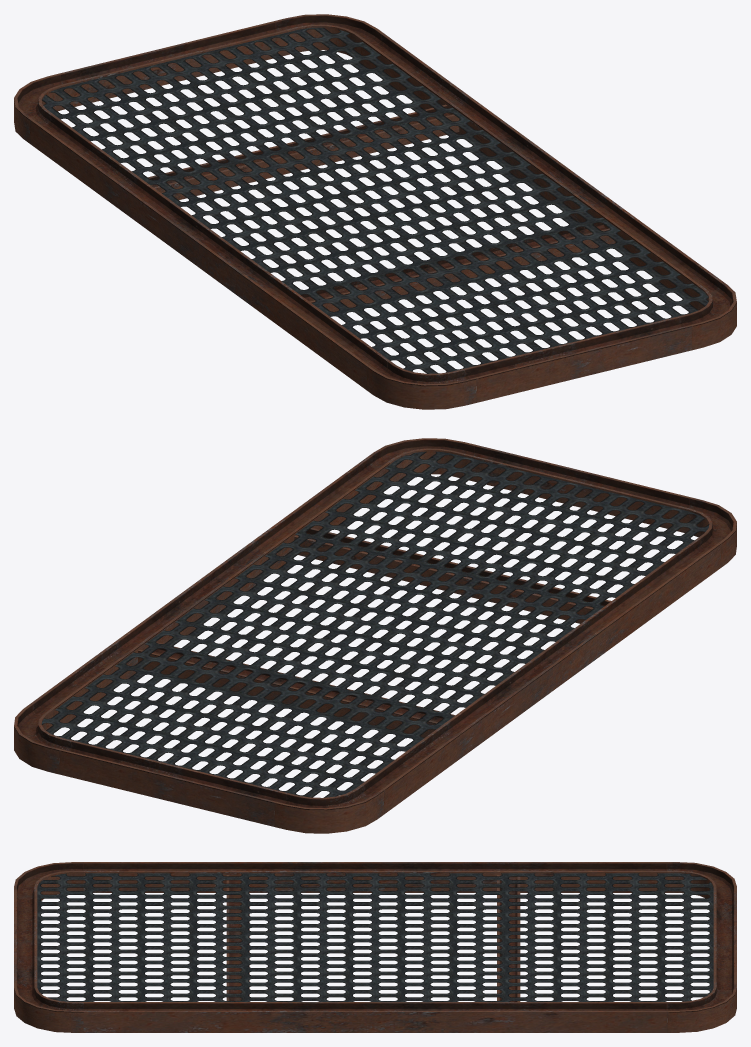
Rendered from scaffold_walkway.dae.
3 views of the same model, one above another, from view 1: azimuth 30°, elevation 25°; view 2: azimuth 150°, elevation 25°; view 3: azimuth 270°, elevation 25° (orthographic). The views are drawn at different scales.
Parts seen in each view (by area): view 1: polySurface145, polySurface142; view 2: polySurface145, polySurface142; view 3: polySurface145, polySurface142.
Part boxes in pixels (x1,y1,x2,y2): polySurface145: [42, 27, 708, 373]; polySurface142: [14, 14, 736, 409]; polySurface145: [41, 451, 709, 797]; polySurface142: [14, 438, 736, 833]; polySurface145: [37, 873, 713, 1001]; polySurface142: [14, 862, 736, 1032].
Size of the model in its own units: 1.91 by 0.125 by 3.9.
